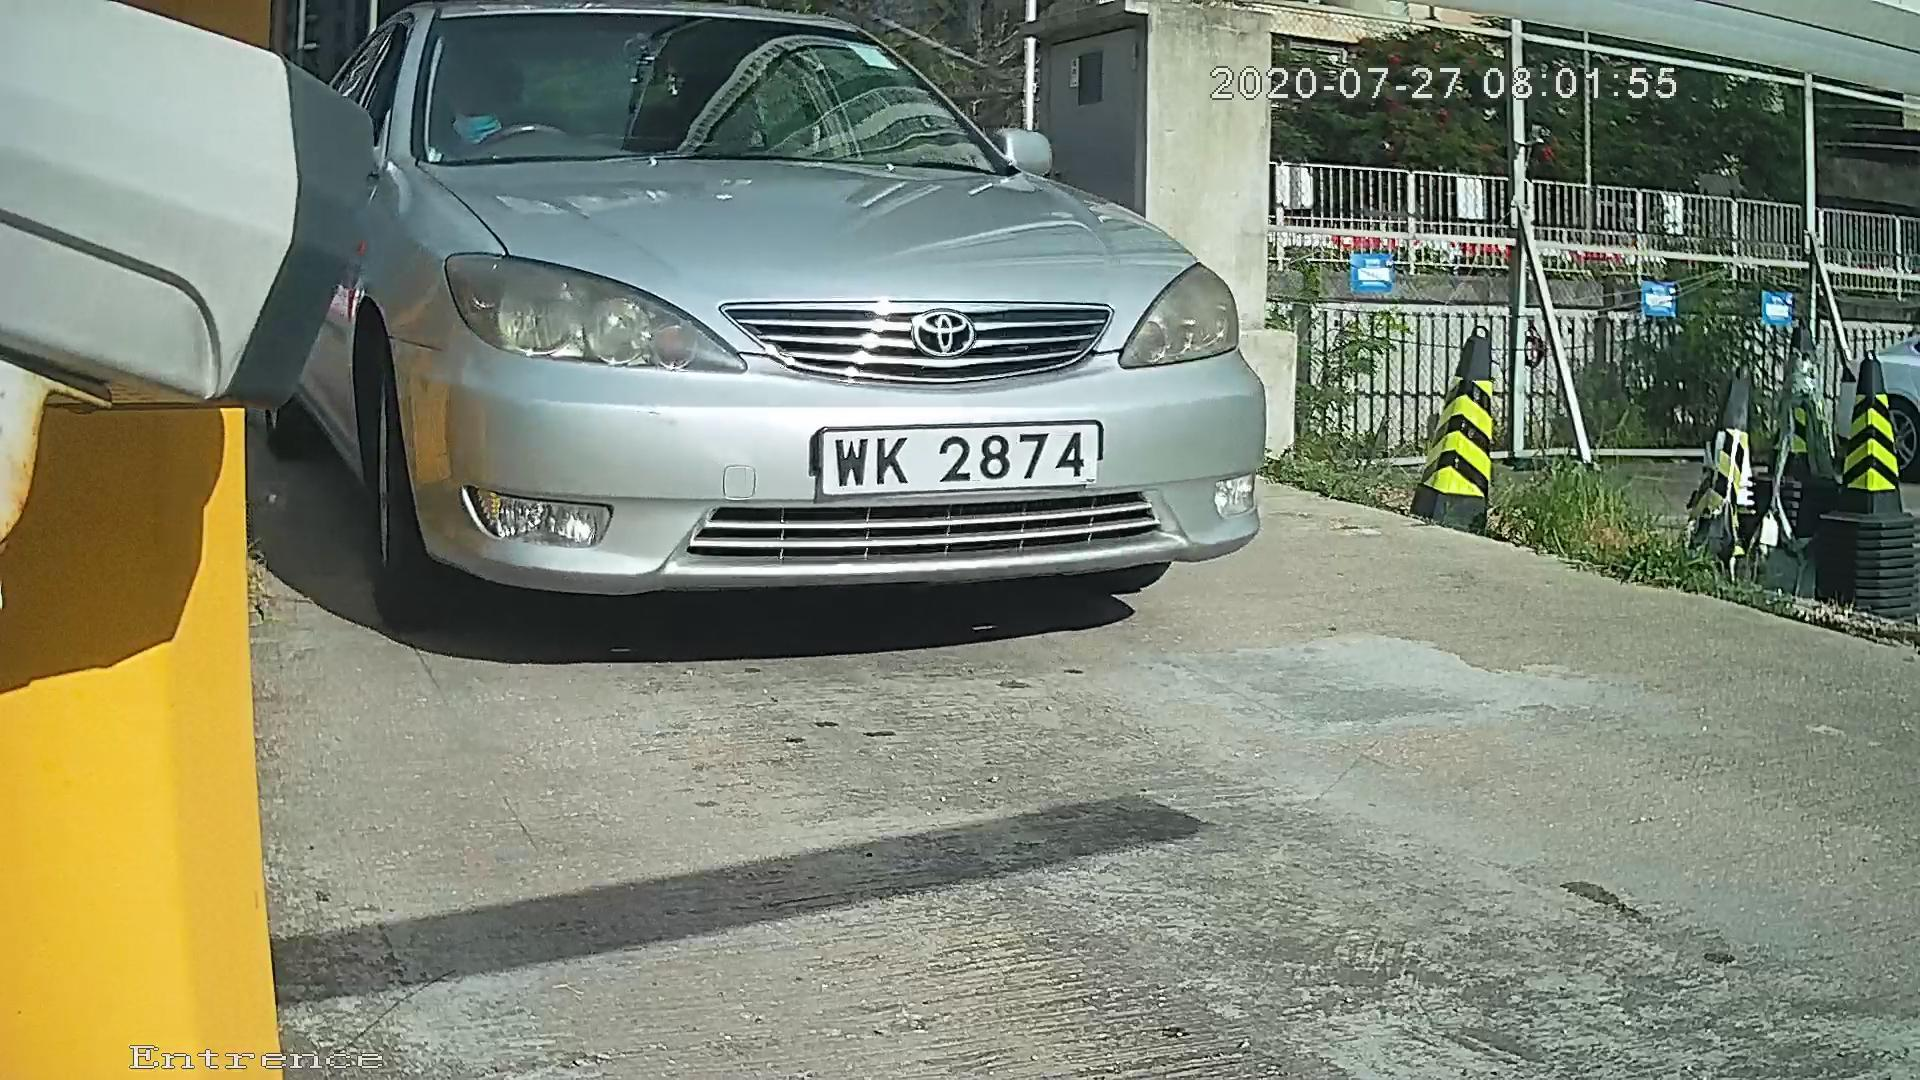License Plate: (772, 406, 1106, 502)
